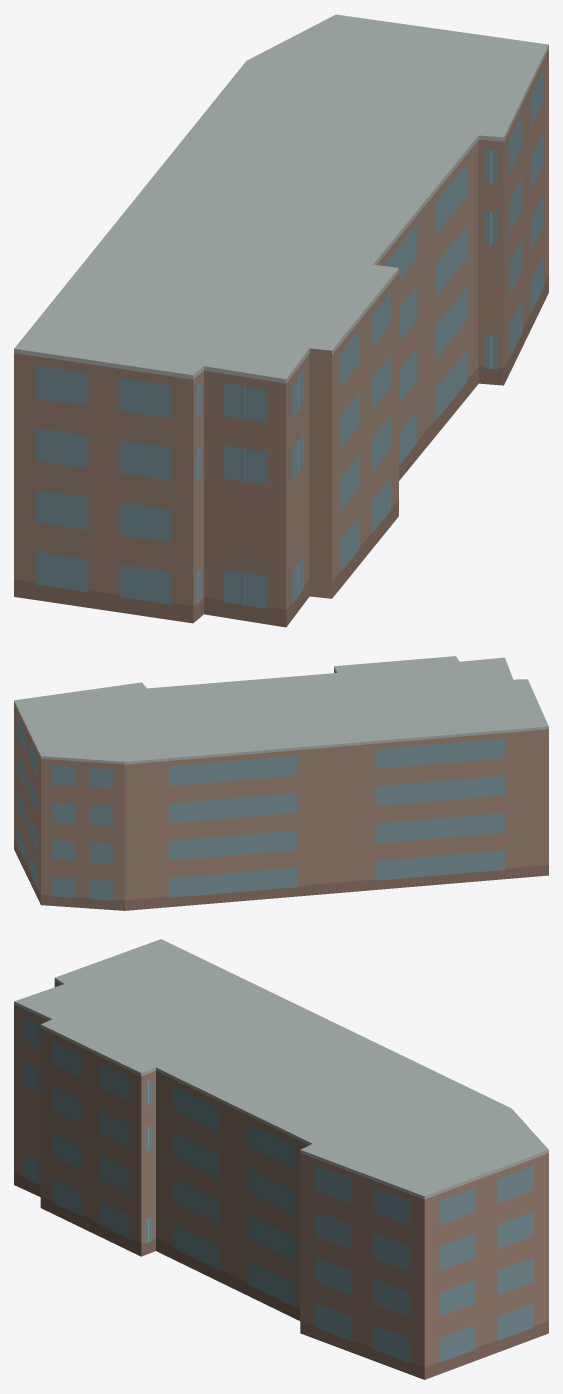
The model's file is survey-upis-33037496.glb.
3 views of the same model, one above another, from view 1: azimuth 30°, elevation 25°; view 2: azimuth 150°, elevation 25°; view 3: azimuth 270°, elevation 25° (orthographic). The views are drawn at different scales.
Parts seen in each view (by area): view 1: survey-upis-33037496.tmp; view 2: survey-upis-33037496.tmp; view 3: survey-upis-33037496.tmp.
Boxes of the visible parts, x1,y1,x2,y2 form: survey-upis-33037496.tmp: (14,14,548,627); survey-upis-33037496.tmp: (14,656,548,910); survey-upis-33037496.tmp: (14,939,548,1379).
Bounding box in the file's own units: 41.5 × 13.8 × 36.45.
